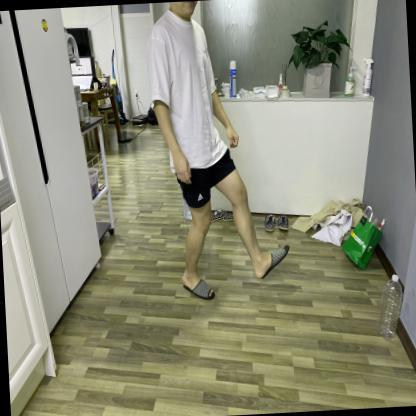no_safety-shoe: (176, 263, 220, 309), (249, 242, 295, 279)
